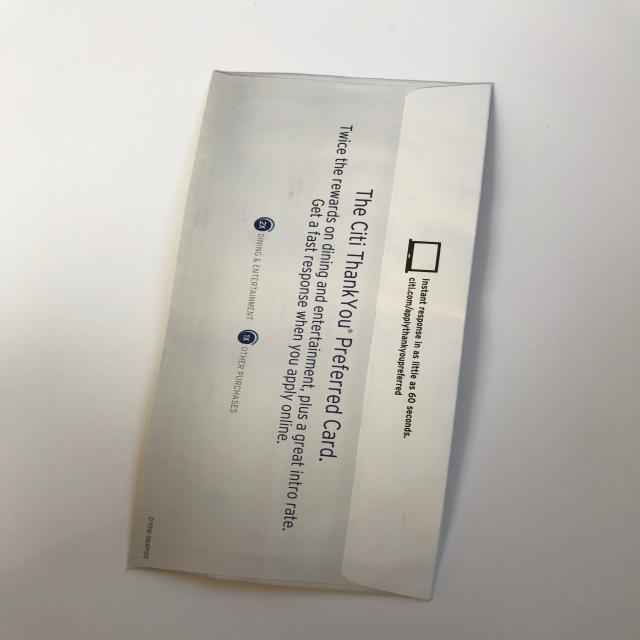paper: (126, 69, 493, 600)
